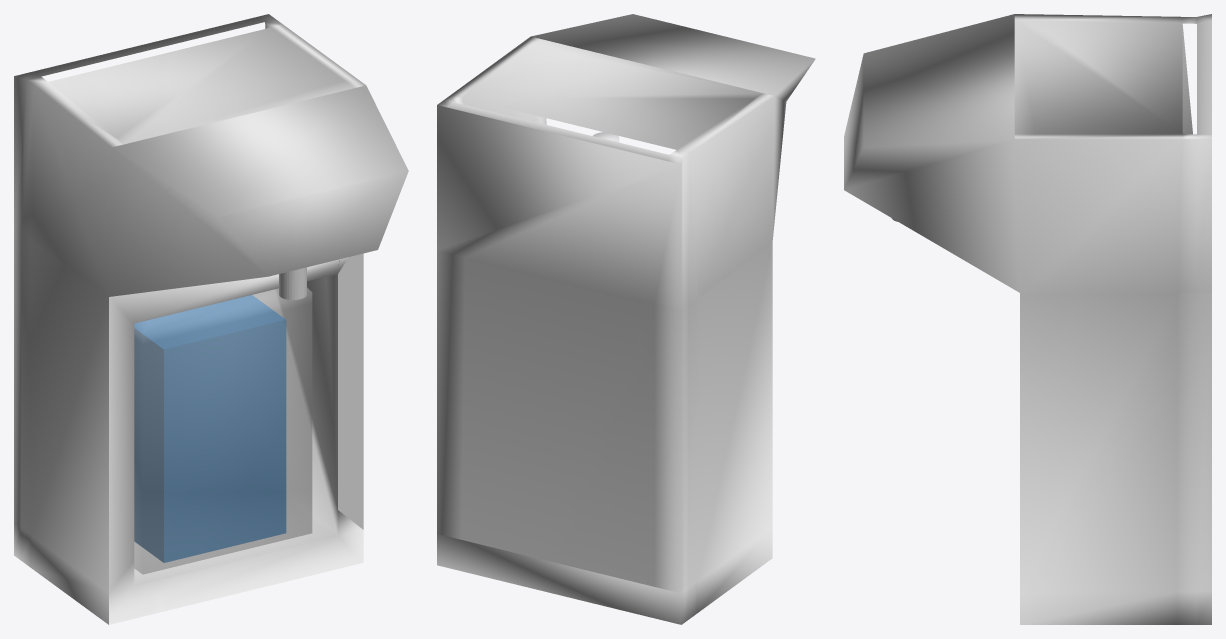
Rendered from dispenserBody.gltf.
3 renders of one model, left to right at view 1: azimuth 30°, elevation 25°; view 2: azimuth 150°, elevation 25°; view 3: azimuth 270°, elevation 25°, orthographic. The views are drawn at different scales.
Visible parts, largest first — view 1: Box, Flasche, liquid, Cylinder; view 2: Box; view 3: Box.
Boxes of the visible parts, bbox=[...] form: Box: bbox=[14, 14, 408, 624]; Flasche: bbox=[134, 288, 311, 574]; liquid: bbox=[134, 295, 285, 562]; Cylinder: bbox=[279, 267, 306, 300]; Box: bbox=[437, 14, 815, 624]; Box: bbox=[844, 14, 1211, 624].
Size of what is drawn, in the model's own units: 0.379 by 0.6819 by 0.4684.
Materials: 3 (2 with a texture image).
